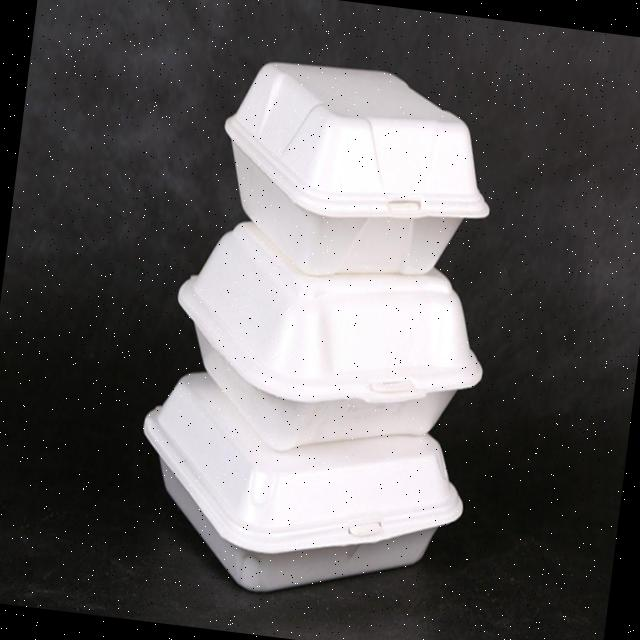styrofoam: (124, 44, 519, 616), (123, 363, 476, 616), (159, 211, 498, 474), (207, 49, 506, 296)
